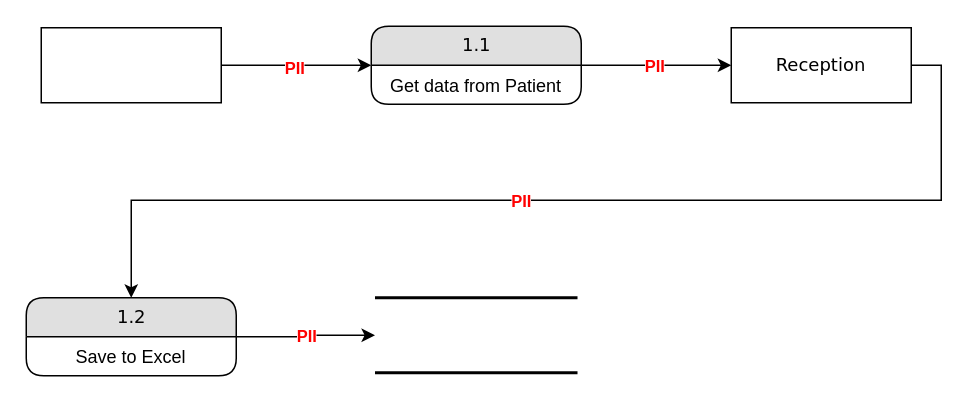
The diagram is 980 pixels wide and 407 high, and some of its shapes have lost their labels. The shapes that lost their labels are listed below. From the top down, each one's centre as x and y in pixels, then its label:
At point (130, 64): "Patient".
At point (475, 335): "Patients Excel file + RBAC + Disk Encryption".
